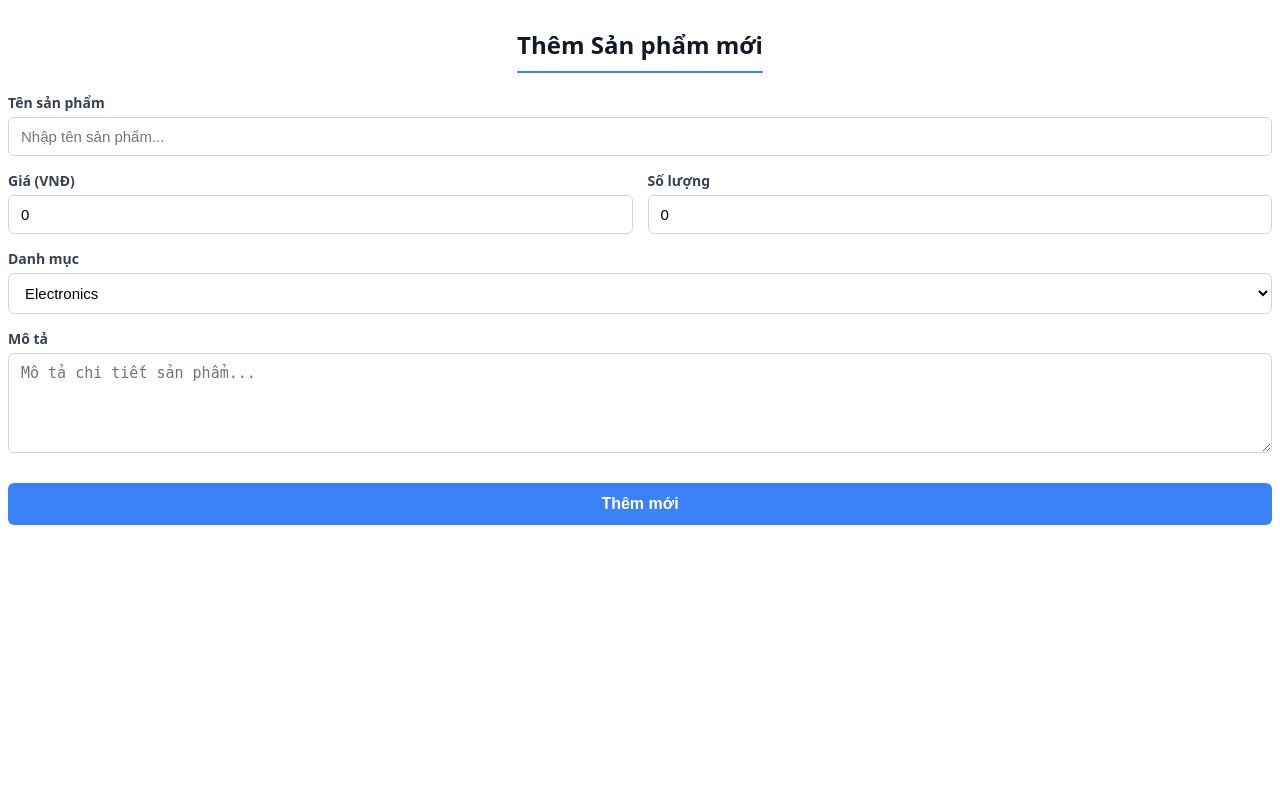
Scenario: Product Form Integration Tests › Hiển thị lỗi validation khi Price là giá trị âm
In the field with test id "product-name-input": coordinates (640, 136) [8,117,1272,156], type "Test Product"
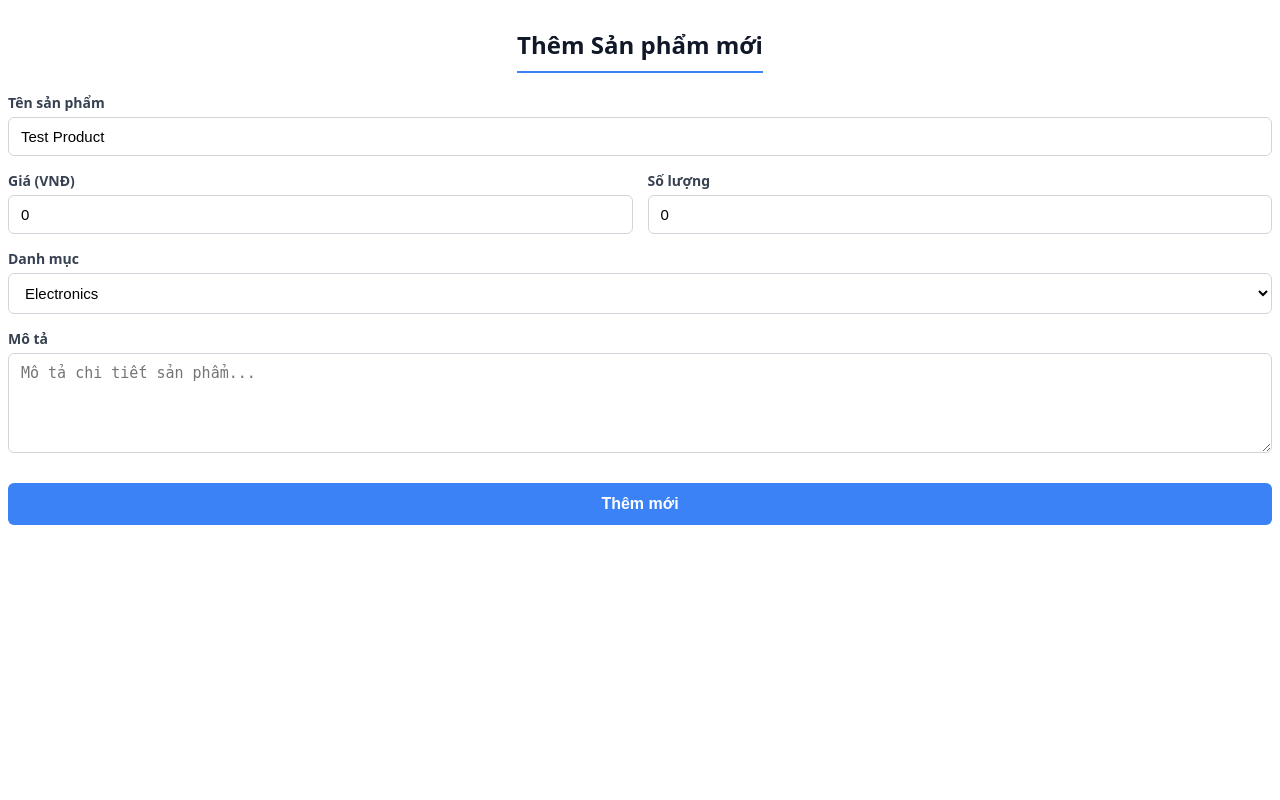
Replace the text in the number field with test id "product-price-input" with "-1000": coordinates (320, 214) [8,195,632,234]
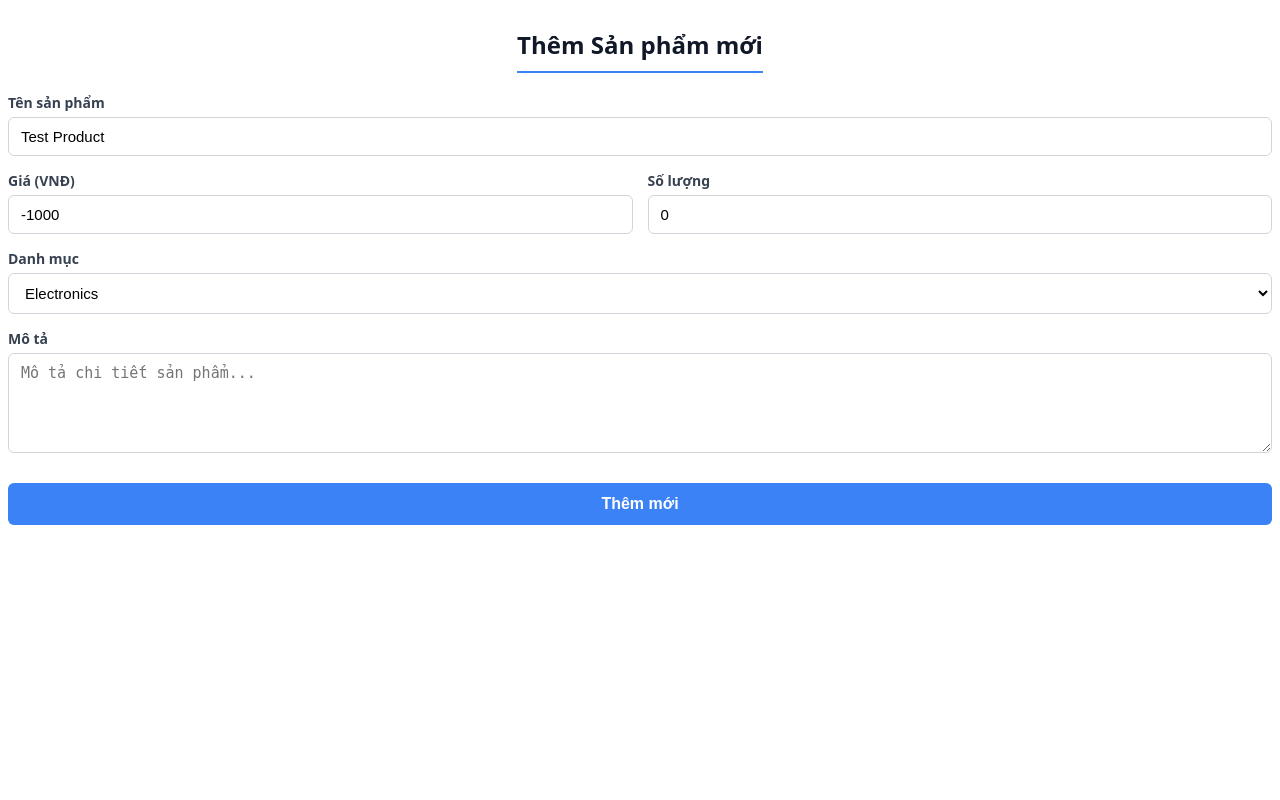
Replace the text in the number field with test id "product-quantity-input" with "5": coordinates (960, 214) [648,195,1272,234]
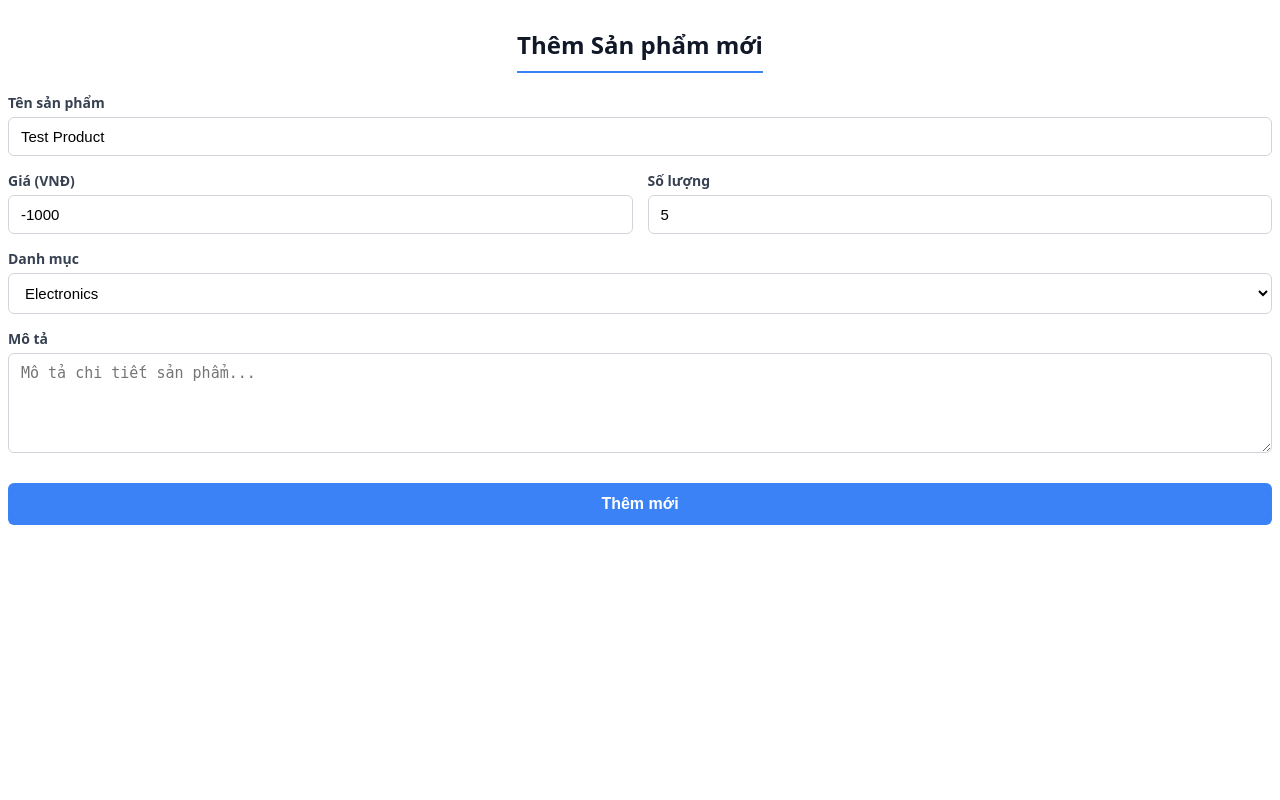
Click the button with test id "submit-btn": coordinates (640, 504) [8,483,1272,525]
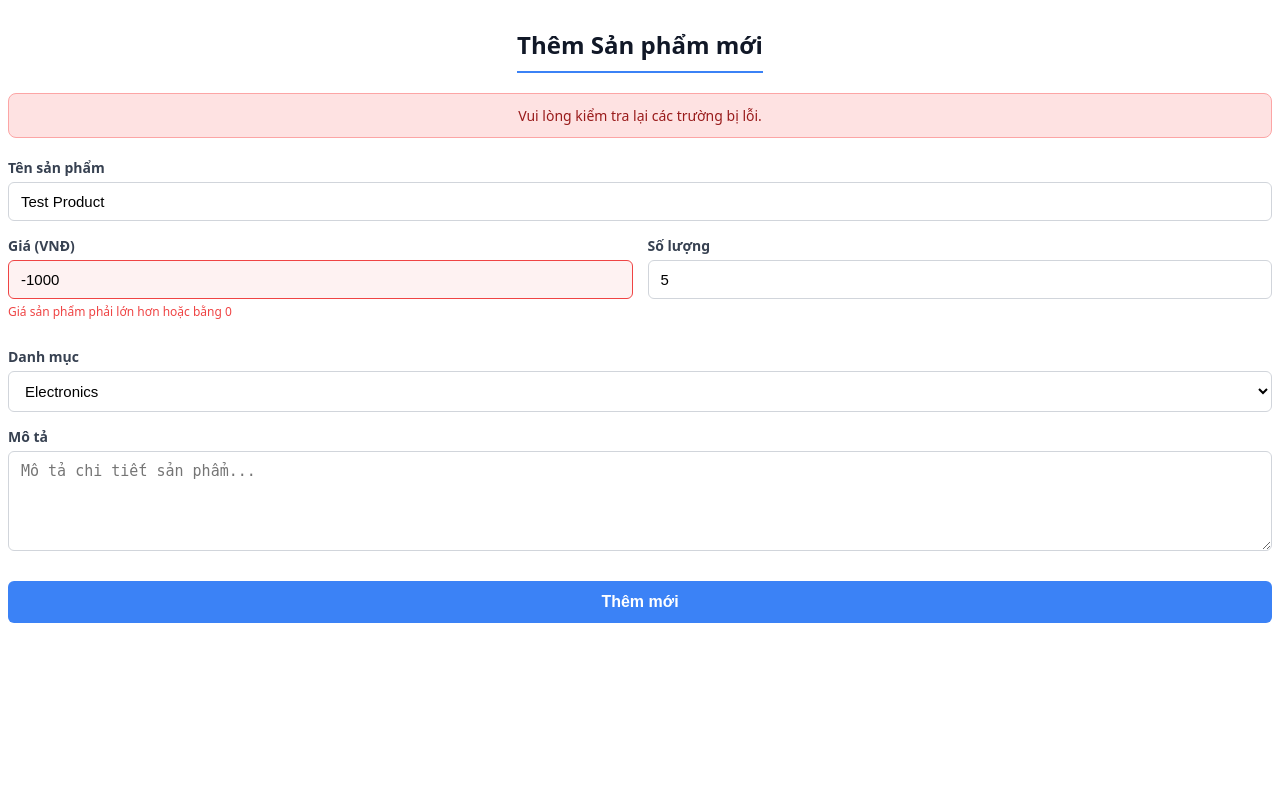
Result: the text "Giá sản phẩm phải lớn hơn hoặc bằng 0" is shown at [8,303,232,320]
